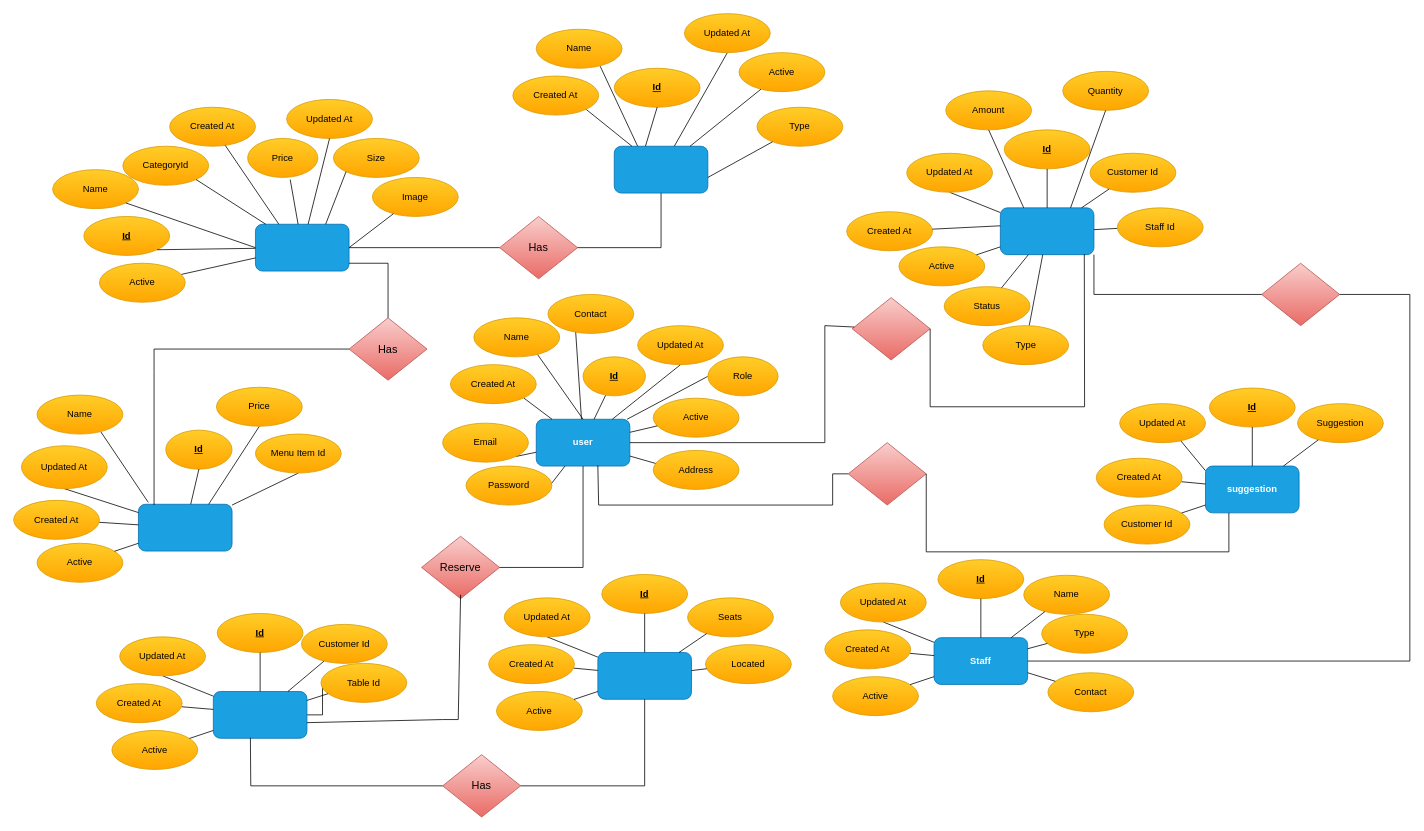
Some shapes in this 1424 by 831 pixel diagram are drawn without their labels. The shapes that lost their labels are listed below. From the top down, each one's centre as x and y in pixels, then its label:
the point at 660,169: categories
the point at 302,247: menu
the point at 1047,231: orders
the point at 1300,294: Deal
the point at 890,328: Place
the point at 886,473: Gives
the point at 185,527: deals
the point at 644,675: tables
the point at 260,714: tablesReservation
